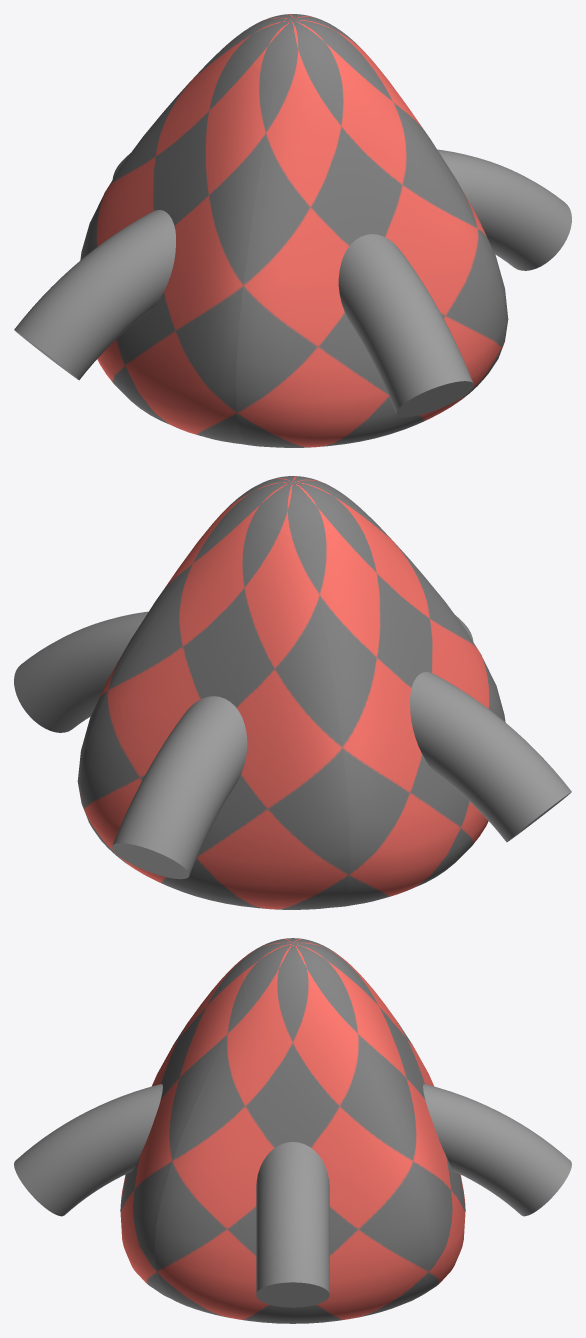
The model's file is Body(Pyramidal)+Colour(More_Red)+Pattern(Diamond)+Arm_Angle(Bent_Down).fbx.
The picture shows the model from 3 angles, top to bottom: view 1: azimuth 30°, elevation 25°; view 2: azimuth 150°, elevation 25°; view 3: azimuth 270°, elevation 25°; orthographic projection. The views are drawn at different scales.
Parts seen in each view (by area): view 1: Body(Pyramidal)+Colour(More_Red)+Pattern(Diamond)+Arm_Angle( (×4); view 2: Body(Pyramidal)+Colour(More_Red)+Pattern(Diamond)+Arm_Angle( (×4); view 3: Body(Pyramidal)+Colour(More_Red)+Pattern(Diamond)+Arm_Angle( (×4).
Part boxes in pixels (bbox=[...]): Body(Pyramidal)+Colour(More_Red)+Pattern(Diamond)+Arm_Angle( (×4): bbox=[14, 14, 571, 447]; Body(Pyramidal)+Colour(More_Red)+Pattern(Diamond)+Arm_Angle( (×4): bbox=[14, 476, 571, 909]; Body(Pyramidal)+Colour(More_Red)+Pattern(Diamond)+Arm_Angle( (×4): bbox=[14, 938, 571, 1323].
Bounding box in the file's own units: 60.67 × 40 × 60.67.
2 materials, 1 textured.
